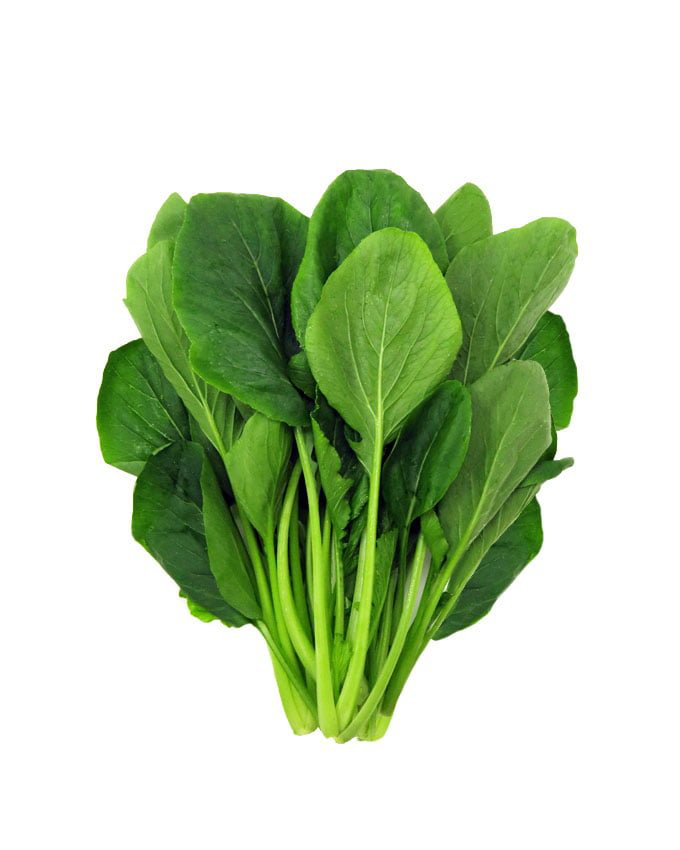Sawi: (107, 165, 628, 707)
